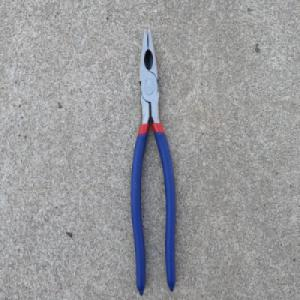Pliers: (128, 25, 177, 299)
